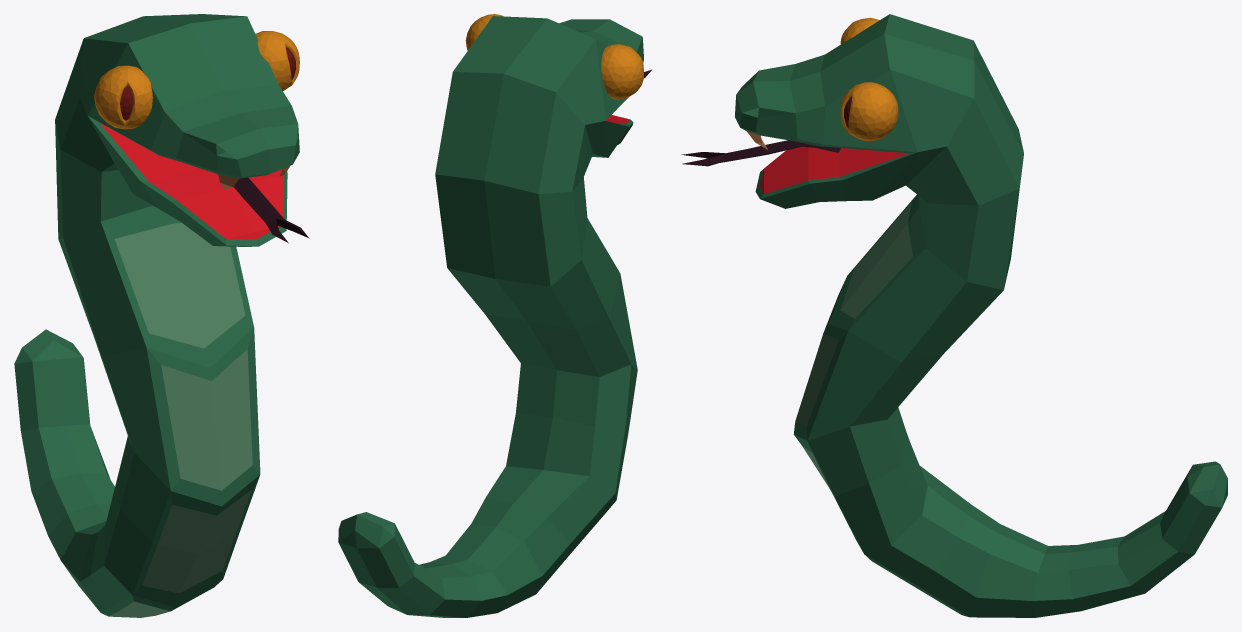
The model's file is Snake.obj.
3 views of the same model, side by side, from view 1: azimuth 30°, elevation 25°; view 2: azimuth 150°, elevation 25°; view 3: azimuth 270°, elevation 25° (orthographic). The views are drawn at different scales.
Visible parts, largest first — view 1: Snake_Cylinder; view 2: Snake_Cylinder; view 3: Snake_Cylinder.
Boxes of the visible parts, x1,y1,x2,y2 form: Snake_Cylinder: (14,14,309,617); Snake_Cylinder: (338,14,652,617); Snake_Cylinder: (681,14,1227,617).
Size of the model in its own units: 1.05 by 3.18 by 2.73.
